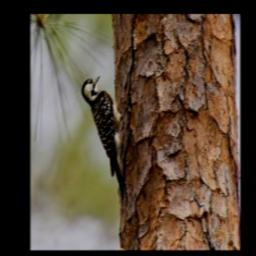Woodpecker: (80, 75, 131, 205)
